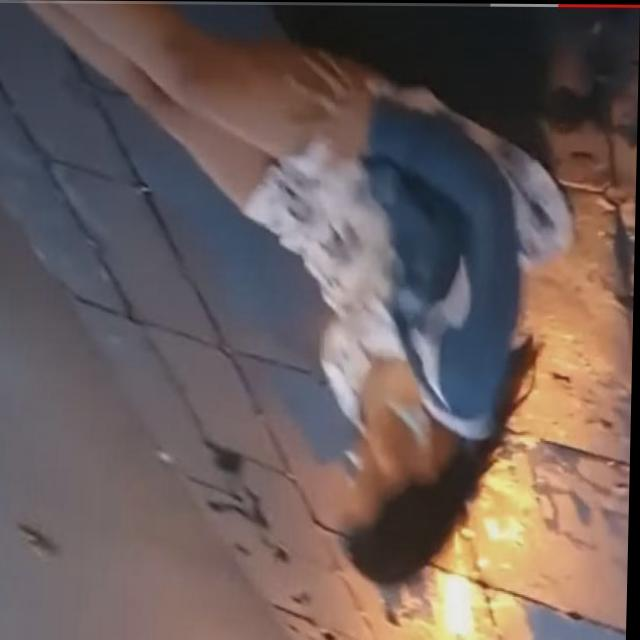fall: (24, 1, 535, 575)
